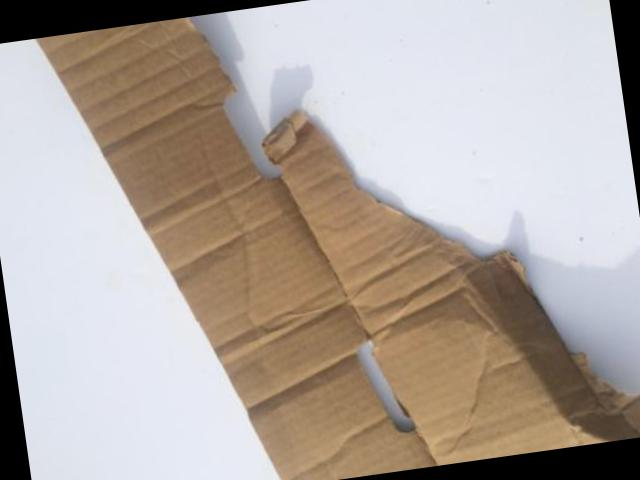cardboard paper: (34, 17, 640, 480), (353, 341, 414, 434)
